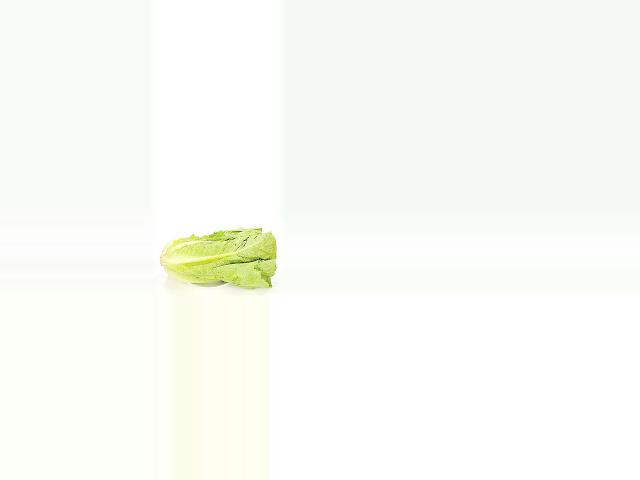lettuce: (158, 225, 276, 290)
